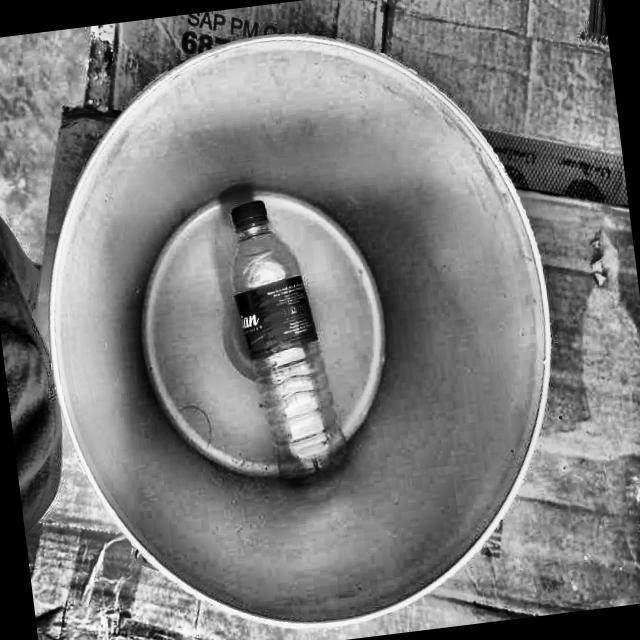Bottle-Disposed: (19, 4, 582, 640)
